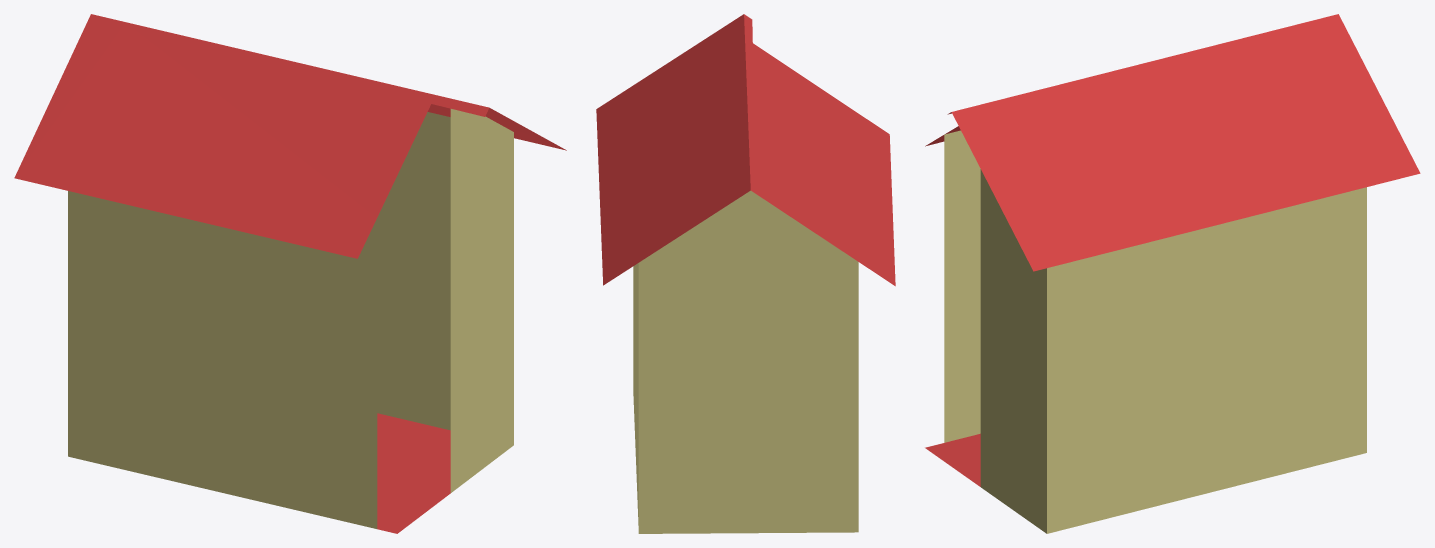
3 renders of one model, left to right at view 1: azimuth 30°, elevation 25°; view 2: azimuth 150°, elevation 25°; view 3: azimuth 270°, elevation 25°, orthographic. The views are drawn at different scales.
Size of the model in its own units: 9.62 by 9.49 by 8.17.
